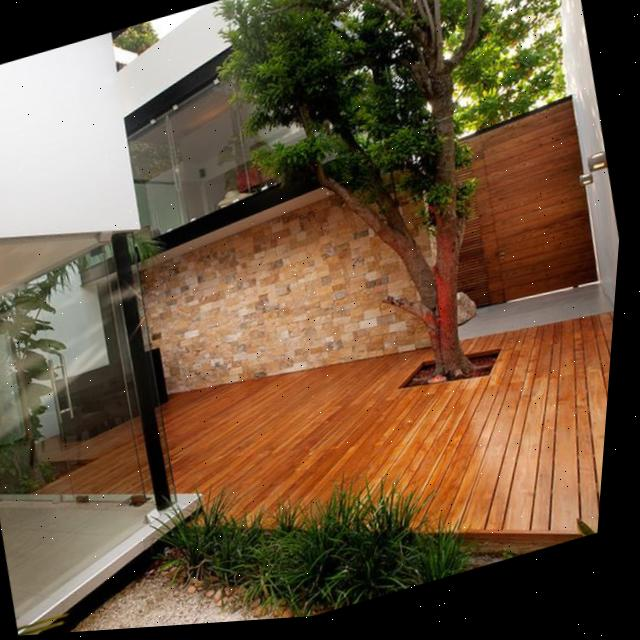building: (81, 0, 495, 424)
